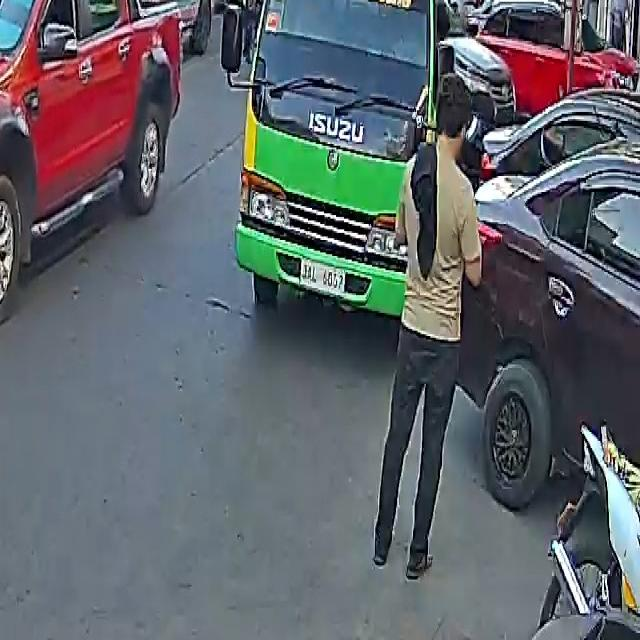car: (469, 82, 640, 529), (0, 0, 197, 329), (474, 0, 640, 103), (103, 0, 216, 50)
